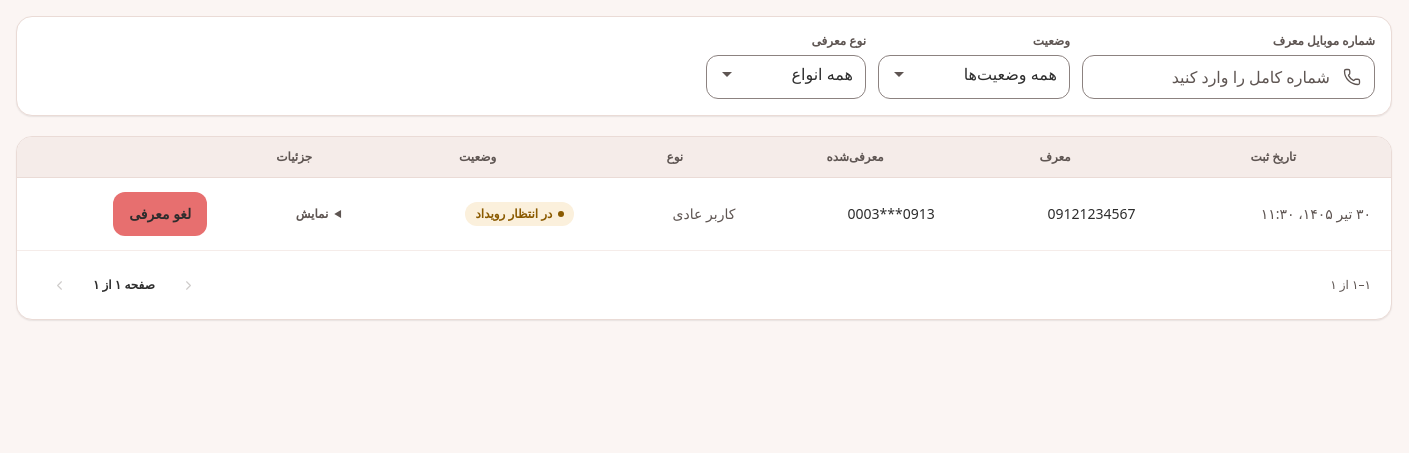
Test: ReferralsView › reloads the list when the cancel request fails (409 lost race)
Click the button with test id "cancel-referral-button". click: (160, 214)
box: [113,192,207,236]
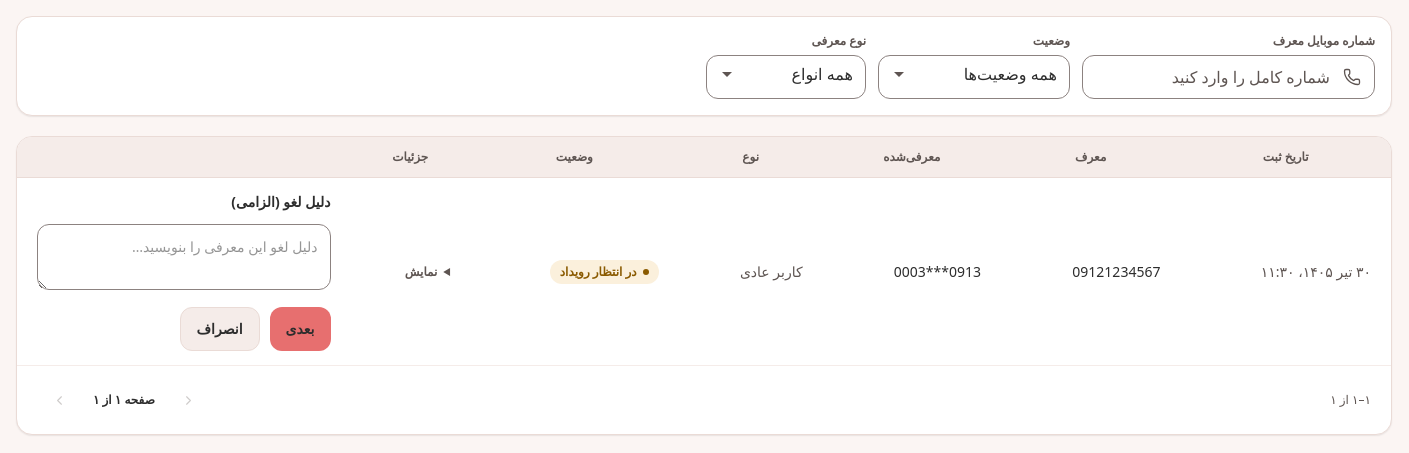
Type "too late" into the text box with test id "cancel-reason-input". click: (184, 257)
box: [37,224,330,290]
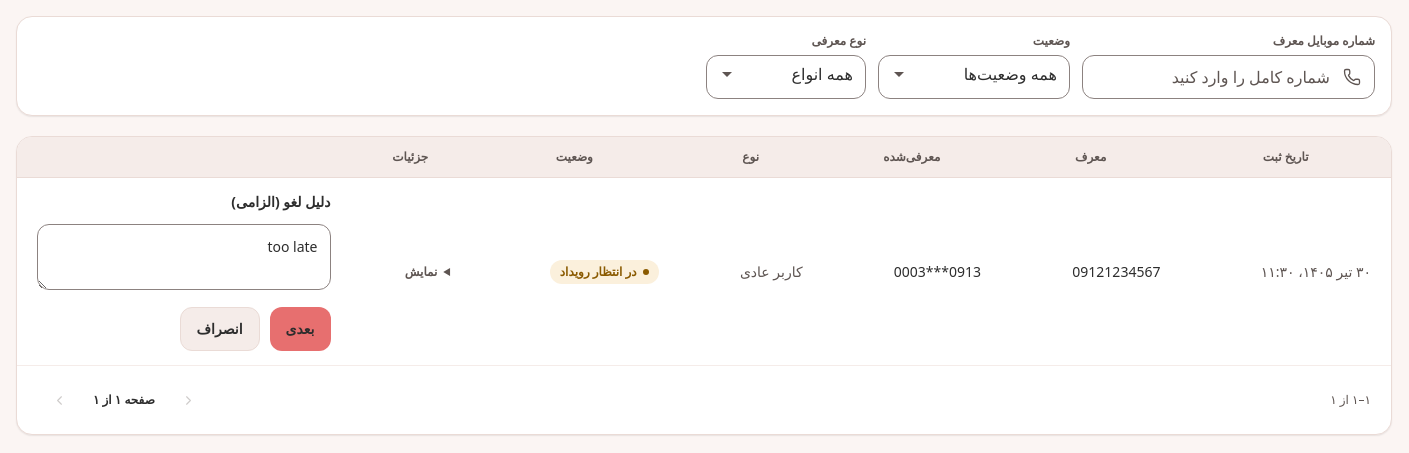
Click the button with test id "cancel-referral-submit". click: (300, 329)
box: [270,307,331,351]
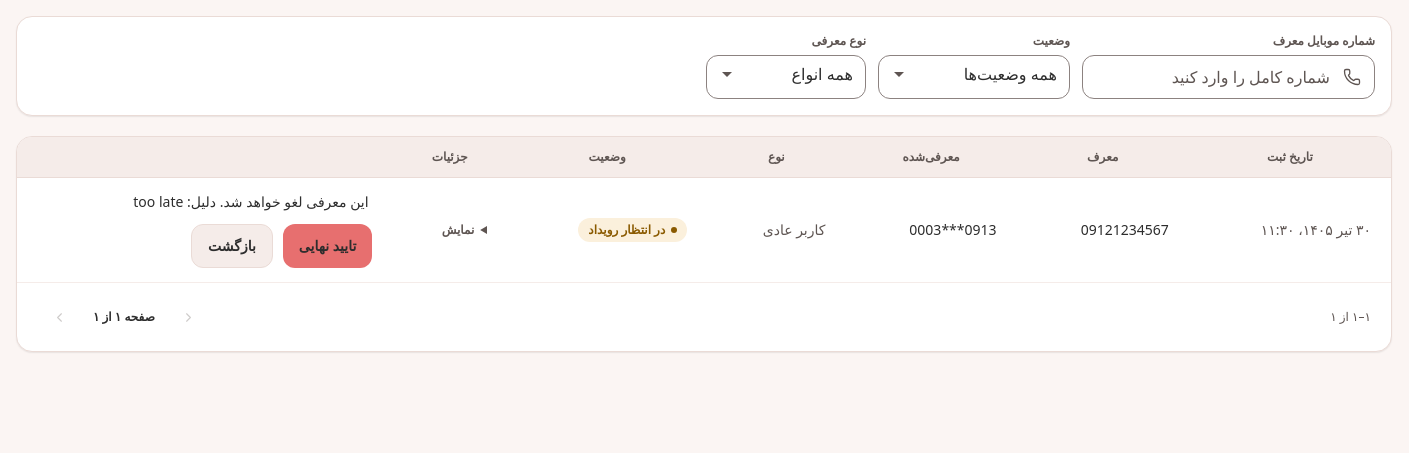
Click the button with test id "cancel-referral-confirm". click: (328, 246)
box: [283,224,372,268]
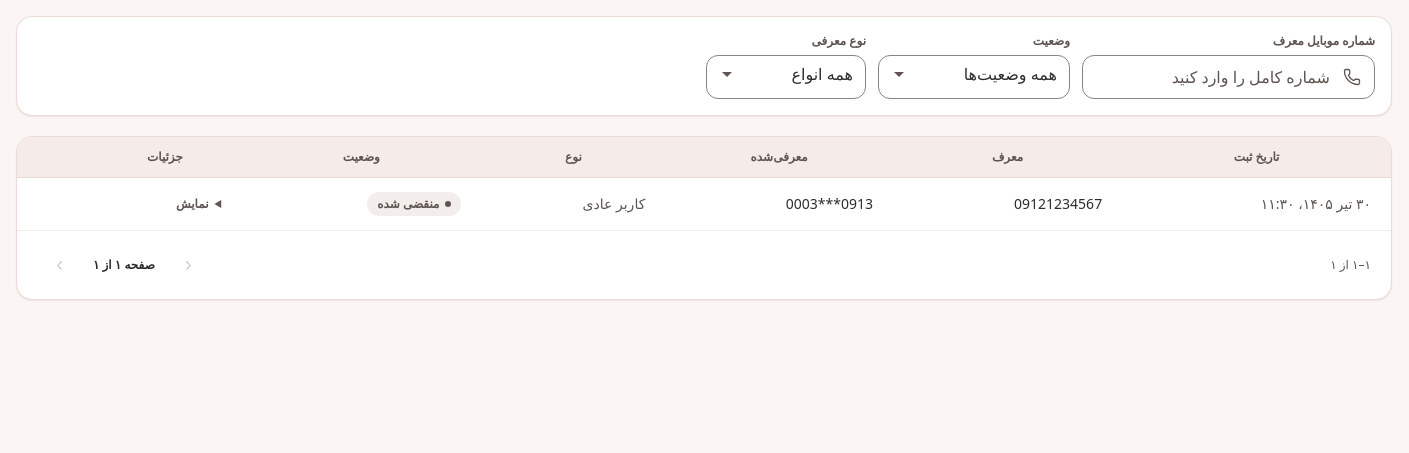
Now the text "منقضی شده" is shown, box [367,192,462,216]
